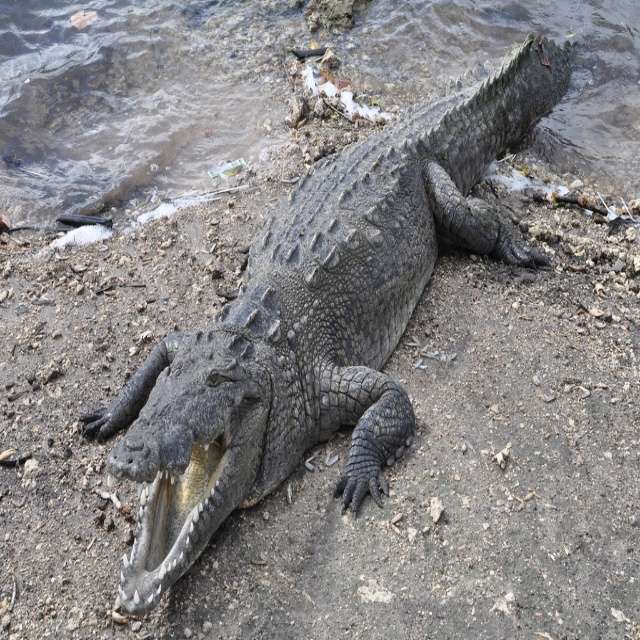Crocodile: (79, 32, 578, 617)
